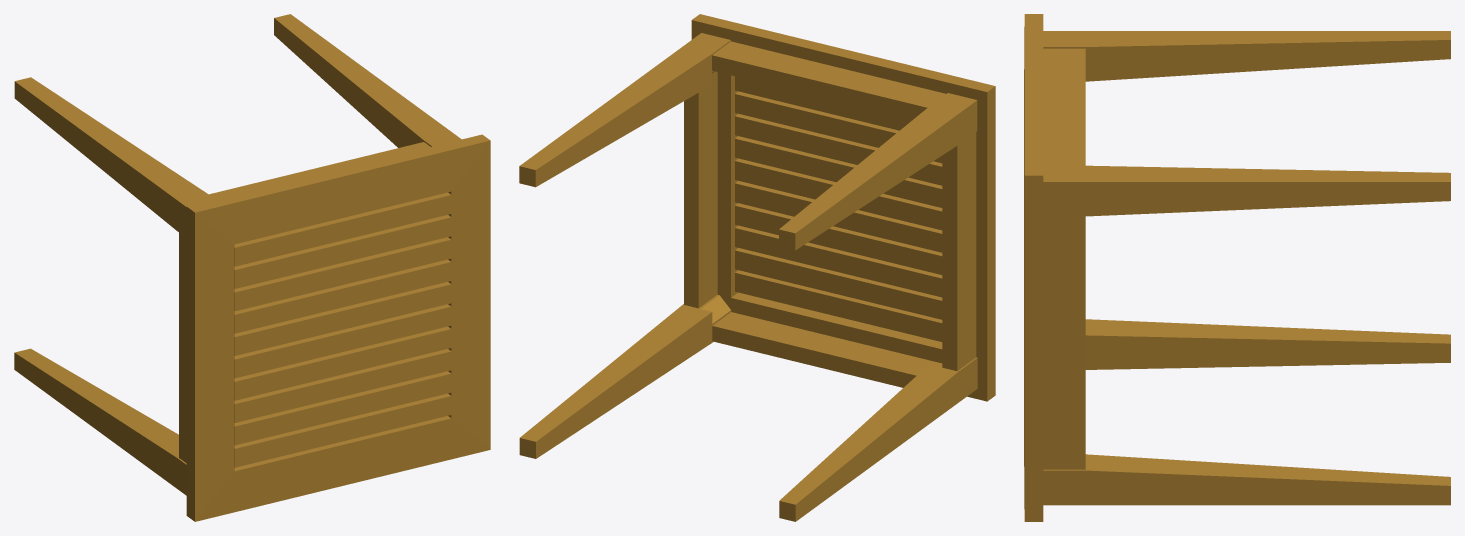
3 renders of one model, left to right at view 1: azimuth 30°, elevation 25°; view 2: azimuth 150°, elevation 25°; view 3: azimuth 270°, elevation 25°, orthographic. The views are drawn at different scales.
Visible parts, largest first — view 1: wellspring side table; view 2: wellspring side table; view 3: wellspring side table.
Part boxes in pixels (x1,y1,x2,y2): wellspring side table: [14, 14, 490, 521]; wellspring side table: [519, 14, 995, 521]; wellspring side table: [1024, 14, 1450, 521].
Size of the model in its own units: 22.5 by 22.5 by 25.13.
